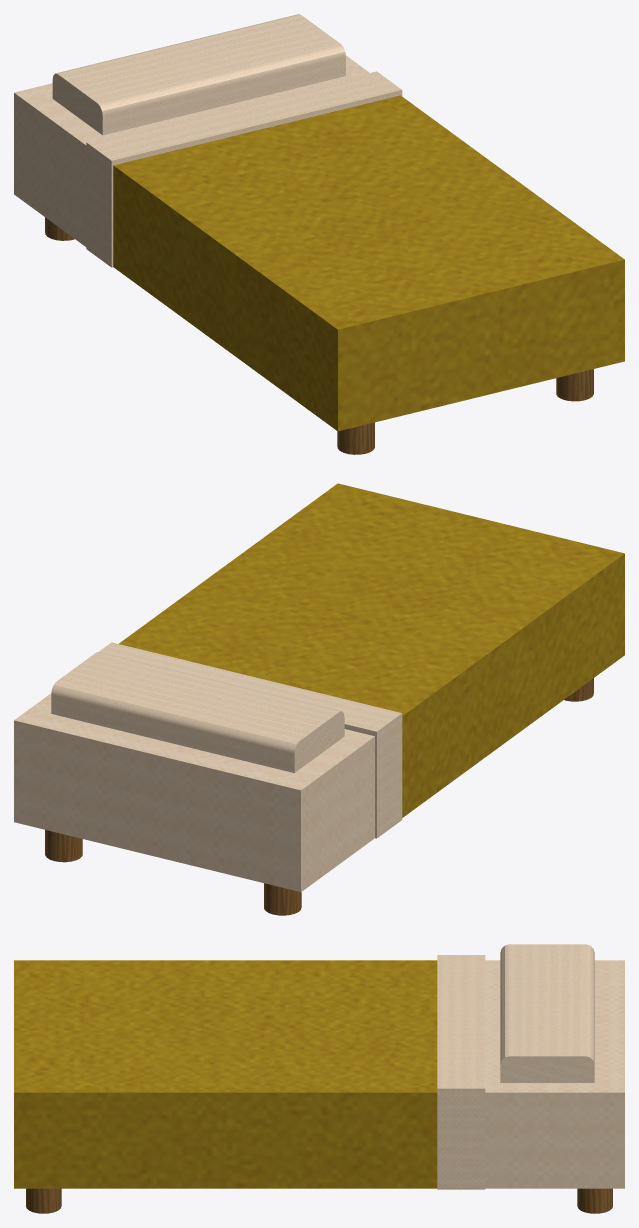
The model's file is Bed.fbx.
3 views of the same model, one above another, from view 1: azimuth 30°, elevation 25°; view 2: azimuth 150°, elevation 25°; view 3: azimuth 270°, elevation 25° (orthographic). The views are drawn at different scales.
Visible parts, largest first — view 1: group5_pCylinder17; view 2: group5_pCylinder17; view 3: group5_pCylinder17.
Part boxes in pixels (left/top/right/bottom): group5_pCylinder17: left=14, top=14, right=624, bottom=454; group5_pCylinder17: left=14, top=483, right=624, bottom=915; group5_pCylinder17: left=14, top=944, right=624, bottom=1213.
Bounding box in the file's own units: 6.59 × 3.59 × 12.73.
